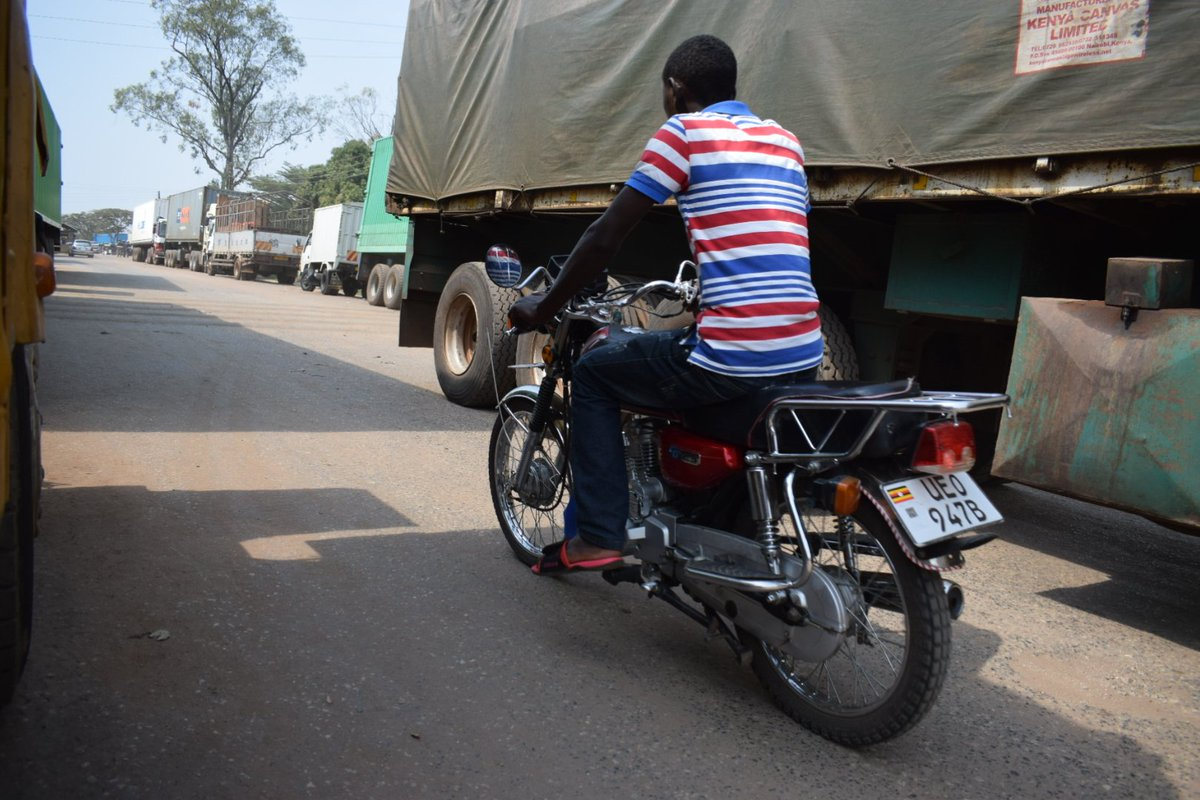motorbike: (464, 236, 992, 767)
